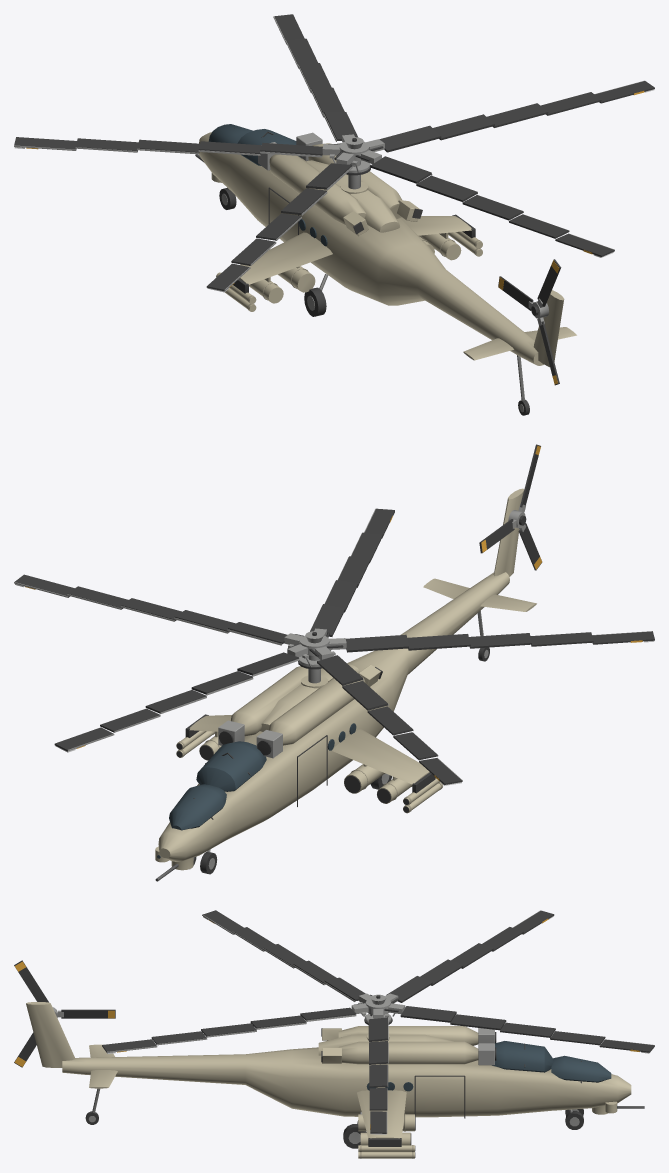
File: rus_heli_mi24.glb
3 renders of one model, top to bottom at view 1: azimuth 30°, elevation 25°; view 2: azimuth 150°, elevation 25°; view 3: azimuth 270°, elevation 25°, orthographic. The views are drawn at different scales.
Parts seen in each view (by area): view 1: body, rotor, trotor; view 2: body, rotor, trotor; view 3: body, rotor, trotor.
Boxes of the visible parts, x1,y1,x2,y2 form: body: (195, 124, 576, 415); rotor: (14, 14, 654, 292); trotor: (498, 259, 561, 385); body: (155, 488, 536, 881); rotor: (14, 508, 654, 785); trotor: (479, 444, 542, 570); body: (26, 1002, 644, 1158); rotor: (102, 910, 654, 1134); trotor: (14, 960, 115, 1067).
Size of the model in its own units: 15.81 by 5.31 by 19.27.
